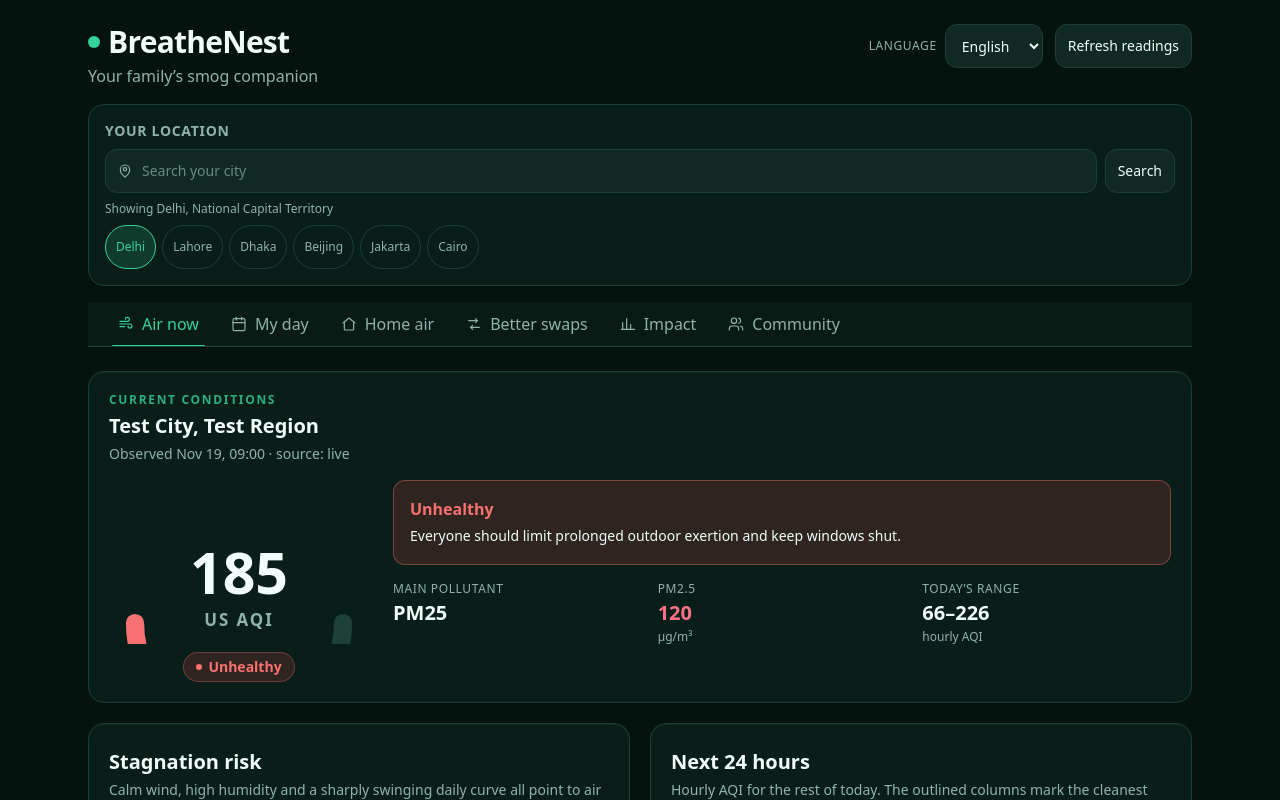
Test case: routine tab — deterministic fallback › names Groq when Groq produced the plan
The image size is (1280, 800).
Click the tab "My day": (270, 324) 217,302 -> 323,346
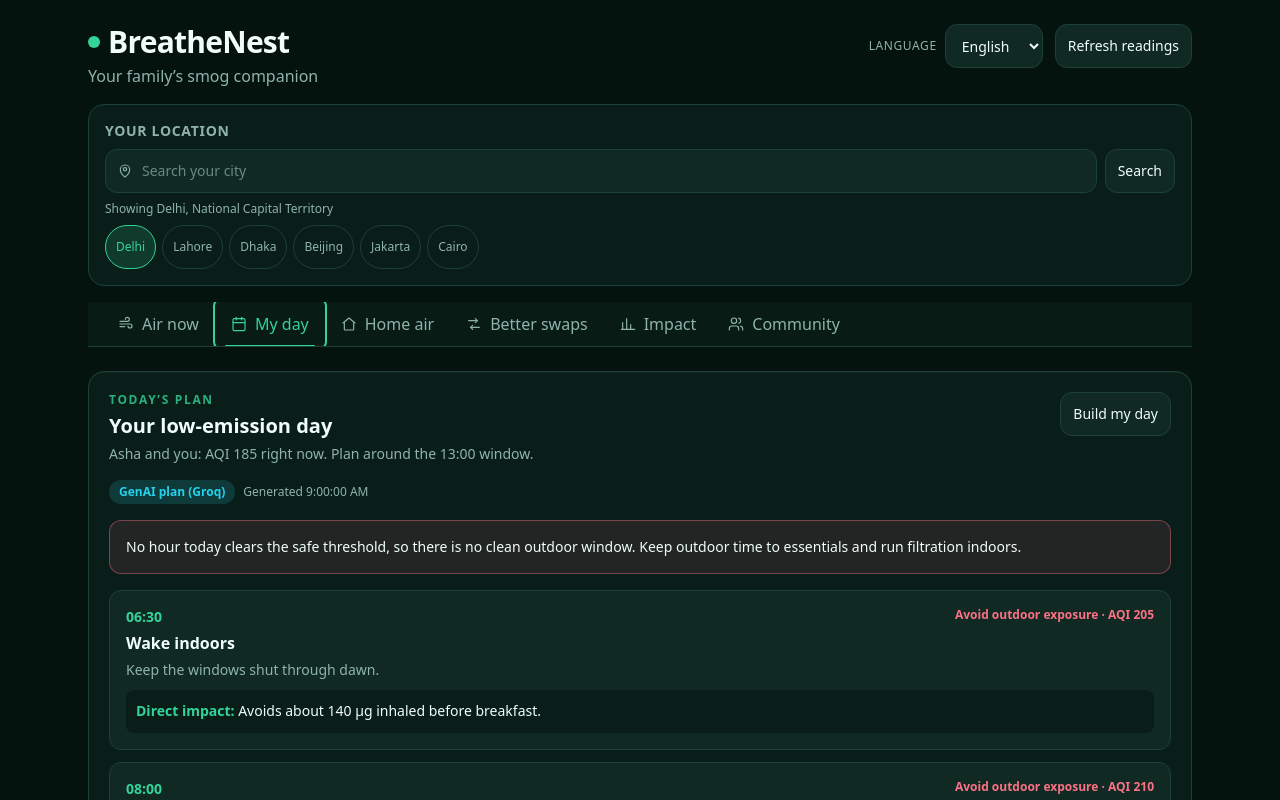
Expected: the text "GenAI plan (Groq)" is shown, 109,480 -> 235,504
